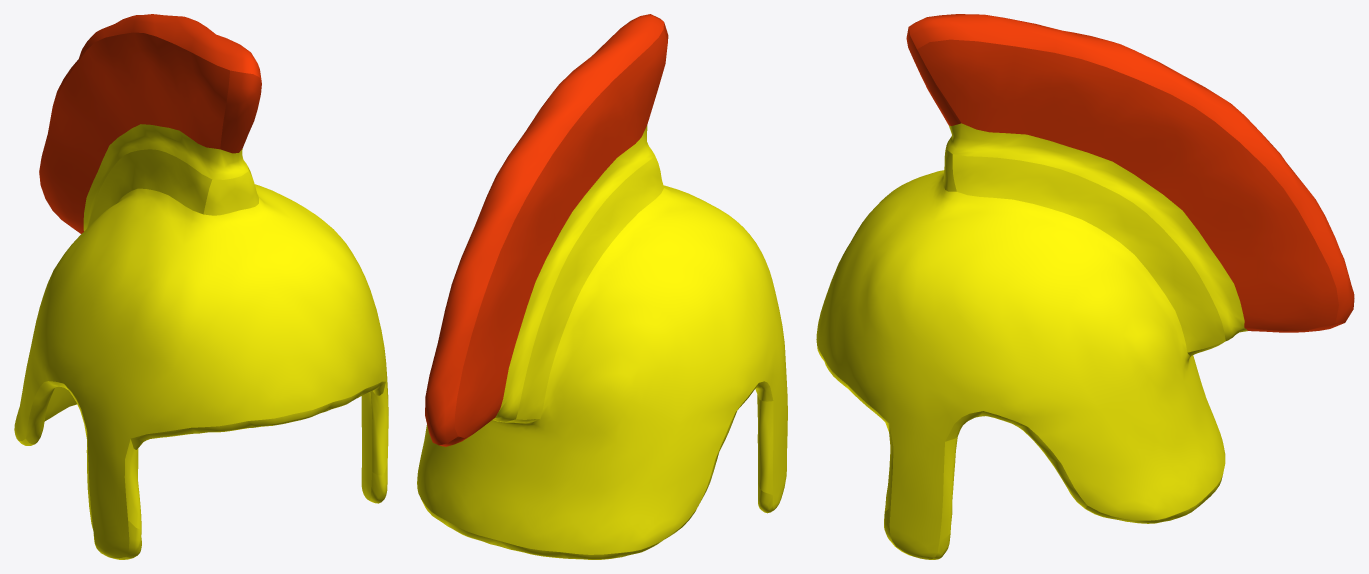
Rendered from LegionHat.fbx.
3 views of the same model, side by side, from view 1: azimuth 30°, elevation 25°; view 2: azimuth 150°, elevation 25°; view 3: azimuth 270°, elevation 25° (orthographic). The views are drawn at different scales.
Visible parts, largest first — view 1: LegionHat; view 2: LegionHat; view 3: LegionHat.
Part boxes in pixels (x1,y1,x2,y2): LegionHat: (14,14,388,559); LegionHat: (417,14,787,559); LegionHat: (816,14,1354,559).
Size of the model in its own units: 412 by 626 by 636.
